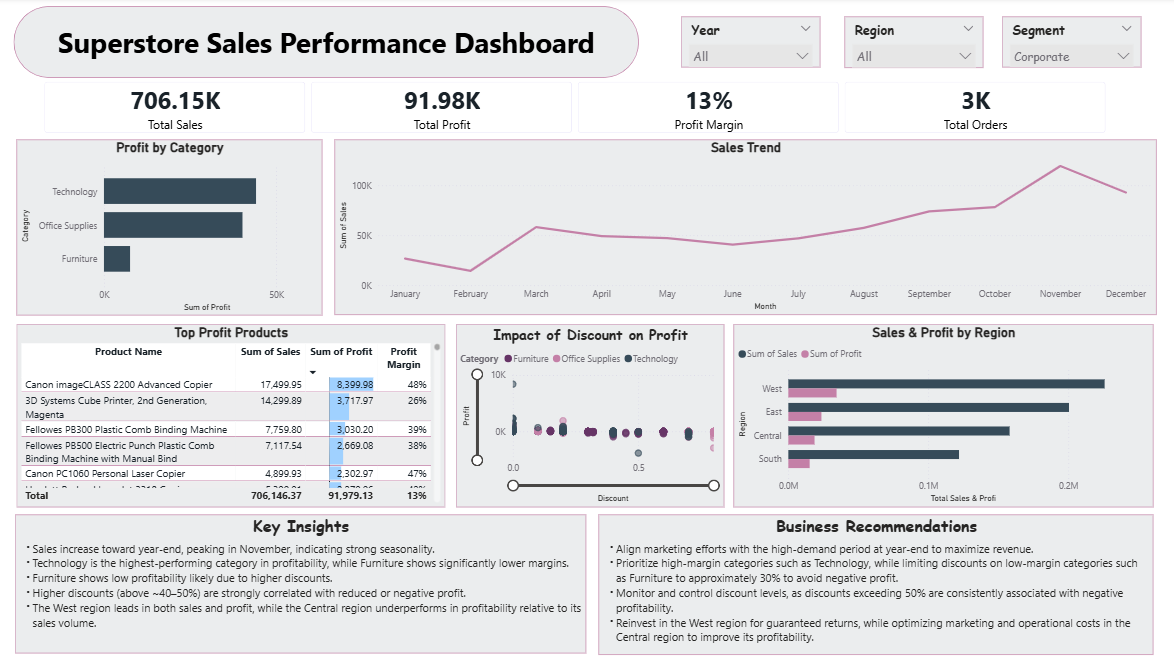

What the dashboard file says about the page in this screenshot:
{"tool":"powerbi","page":{"name":"Superstore Sales Performance Dashboard","canvas":[1600,900],"ordinal":0},"visuals":[{"type":"cardVisual","fields":{"Data":["Sample - Superstore.Total Sales","Sample - Superstore.Total Profit","Sample - Superstore.Profit Margin","Sample - Superstore.Total Orderd"]},"box":[50.6,97.2,1467.4,103.2],"z":0},{"type":"lineChart","title":"Sales Trend","fields":{"Category":["Sample - Superstore.Order Date.Variation.Date Hierarchy.Month"],"Y":["Sum(Sample - Superstore.Sales)"]},"box":[459.3,193,1109.2,236.8],"z":1000},{"type":"clusteredBarChart","title":"Sales & Profit by Region","fields":{"Category":["Sample - Superstore.Region"],"Y":["Sum(Sample - Superstore.Sales)","Sum(Sample - Superstore.Profit)"]},"box":[998.4,441.6,566.4,247.2],"z":2000},{"type":"barChart","title":"Profit by Category","fields":{"Category":["Sample - Superstore.Category"],"Y":["Sum(Sample - Superstore.Profit)"]},"box":[31.3,192.1,412.8,237.6],"z":3000},{"type":"tableEx","title":"Top Profit Products","fields":{"Values":["Sample - Superstore.Product Name","Sum(Sample - Superstore.Sales)","Sum(Sample - Superstore.Profit)","Sample - Superstore.Profit Margin"]},"box":[31.2,441.6,578.4,247.2],"z":4000},{"type":"scatterChart","title":"Impact of Discount on Profit","fields":{"X":["Sample - Superstore.Discount"],"Y":["Sample - Superstore.Profit"],"Series":["Sample - Superstore.Category"]},"box":[624,442,362,247],"z":5000},{"type":"shape","box":[27.3,11.9,844,97.2],"z":6000},{"type":"slicer","fields":{"Values":["Sample - Superstore.Order Date.Variation.Date Hierarchy.Year"]},"box":[927,26.3,188.2,68.8],"z":7000},{"type":"slicer","fields":{"Values":["Sample - Superstore.Region"]},"box":[1147.2,26.4,187.2,69.6],"z":8000},{"type":"slicer","fields":{"Values":["Sample - Superstore.Segment"]},"box":[1359.2,26,188.2,68.8],"z":9000},{"type":"textbox","title":"Key Insights","box":[28.8,698.4,770.4,187.2],"z":10000},{"type":"textbox","title":"Business Recommendations","box":[816,698.4,748.8,189.6],"z":11000}]}

Visuals, with their boxes in screenshot pixels (x1, y1, x2, y2), scaled from the page's 1600x900 canvas onto the 1174x661 screenshot:
cardVisual - Sample - Superstore.Total Sales x Sample - Superstore.Total Profit: 37, 71, 1114, 147
"Sales Trend" lineChart: 337, 142, 1151, 316
"Sales & Profit by Region" clusteredBarChart: 733, 324, 1148, 506
"Profit by Category" barChart: 23, 141, 326, 316
"Top Profit Products" tableEx: 23, 324, 447, 506
"Impact of Discount on Profit" scatterChart: 458, 325, 723, 506
shape: 20, 9, 639, 80
slicer - Sample - Superstore.Order Date.Variation.Date Hierarchy.Year: 680, 19, 818, 70
slicer - Sample - Superstore.Region: 842, 19, 979, 71
slicer - Sample - Superstore.Segment: 997, 19, 1135, 70
"Key Insights" textbox: 21, 513, 586, 650
"Business Recommendations" textbox: 599, 513, 1148, 652
